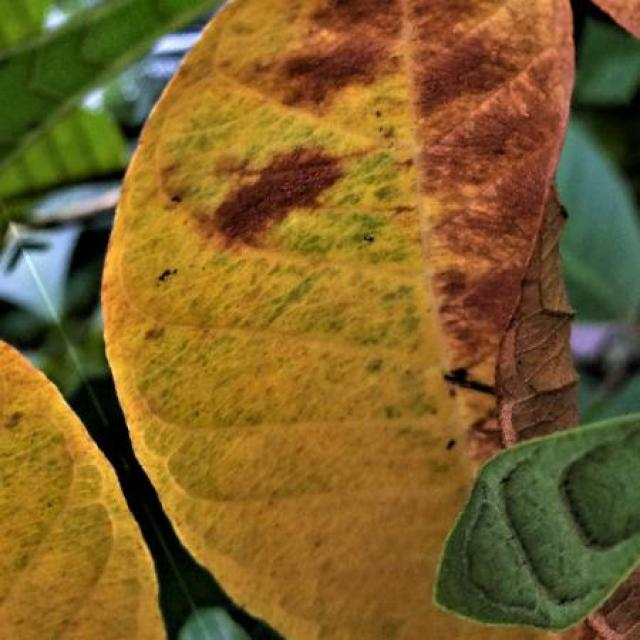Red Rust: (104, 0, 578, 640)
